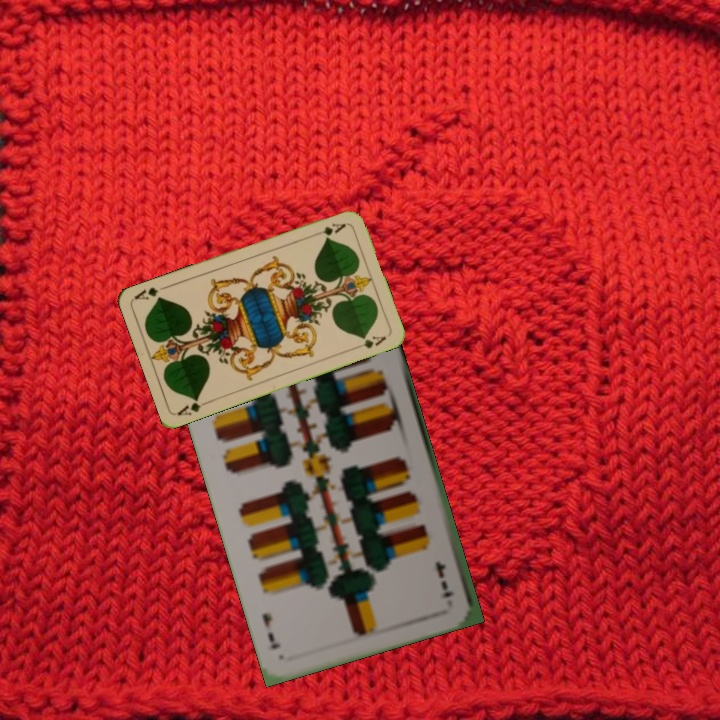E7: (431, 558, 457, 600)
GA: (174, 394, 213, 418), (309, 219, 348, 240)
